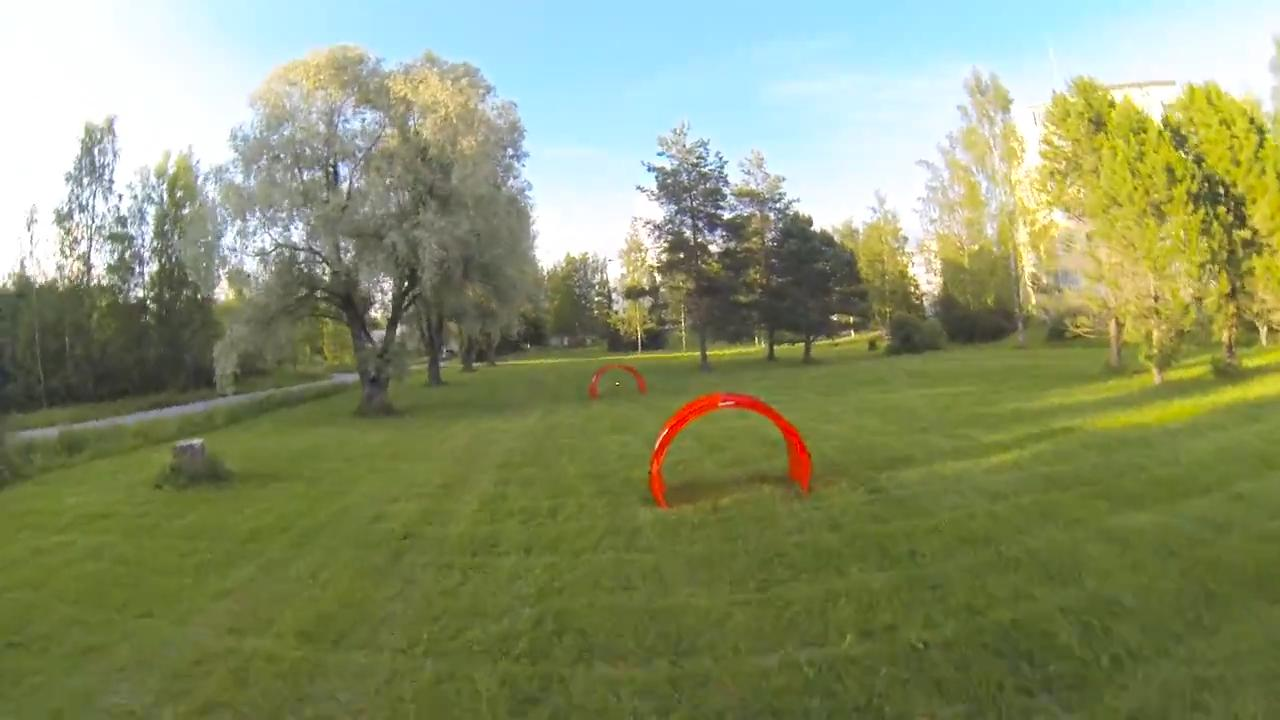gate: (641, 390, 822, 510)
